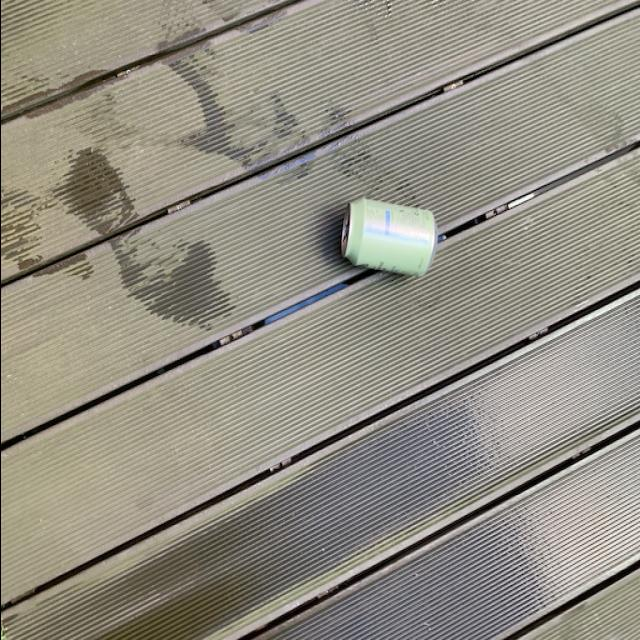litter: (334, 198, 436, 282)
